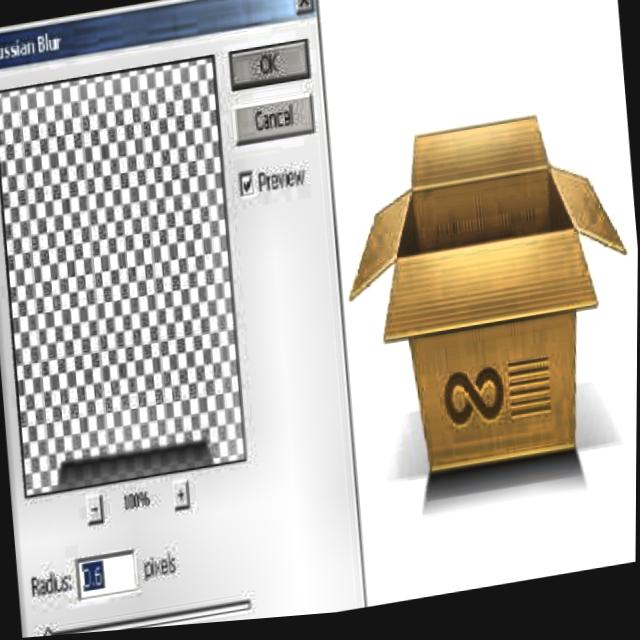Cardbox: (351, 114, 618, 493), (0, 0, 323, 86)
